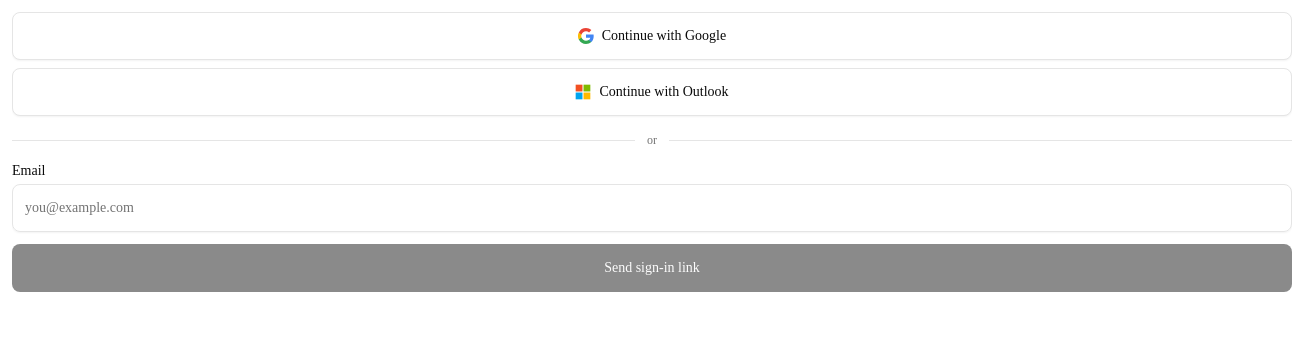
Test: email link › surfaces a send failure instead of pretending it worked
Type "ayo@example.com" into the field labelled "Email" at (652, 208), box [12, 184, 1292, 232]
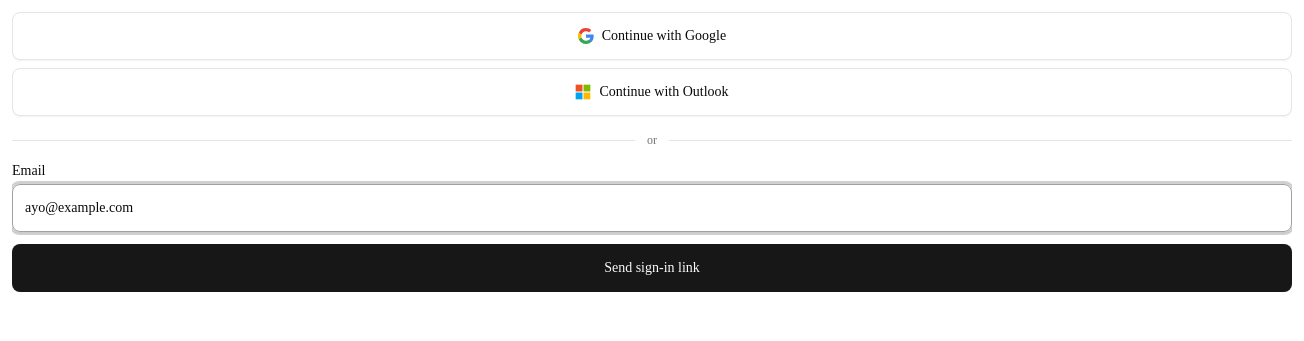
Click the button "Send sign-in link" at (652, 268), box [12, 244, 1292, 292]
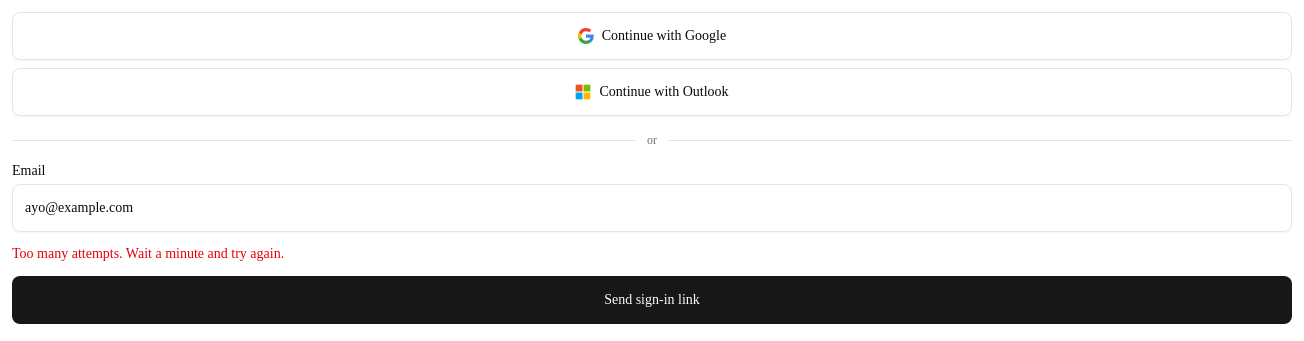
Now the message shows "Wait", box [12, 246, 284, 261]
